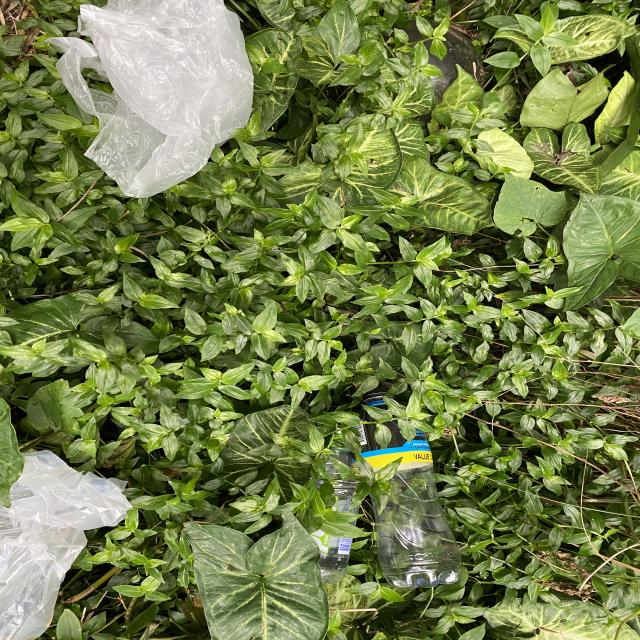bag: (46, 0, 255, 198), (0, 449, 133, 640)
bottle: (356, 393, 461, 586)
